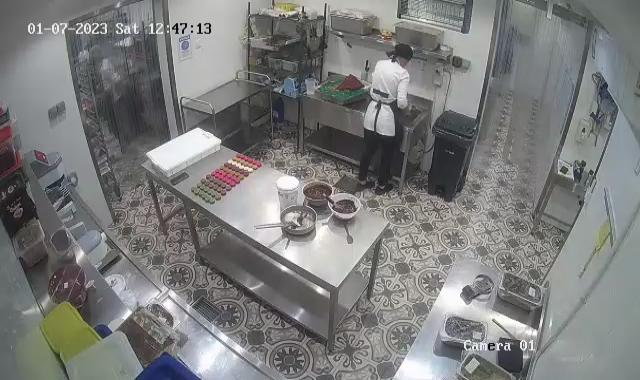no_hairnet: (394, 43, 414, 63)
